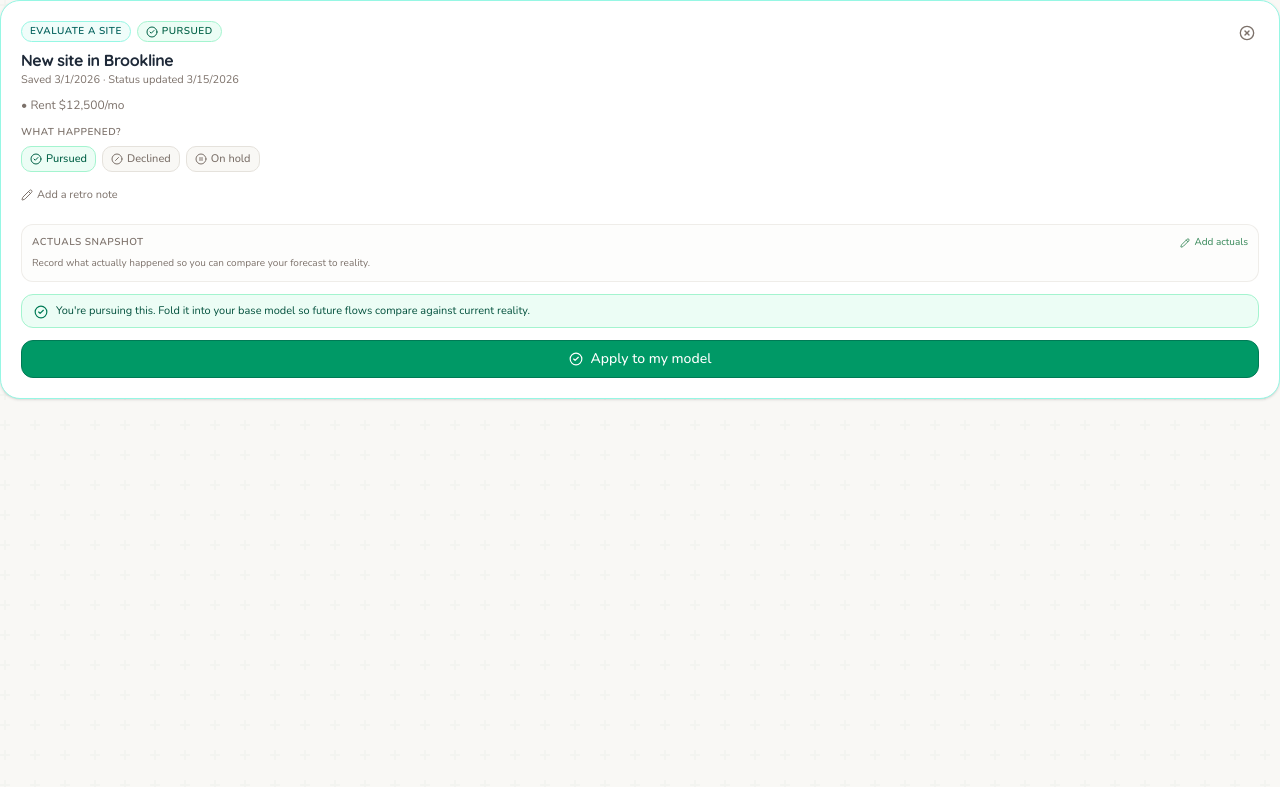
Test: CustomScenarioCard — upload-removed inline notice (Task #288) › clears the 'Suggested' pill on previously book-sourced fields after removal
Click the button with test id "custom-scenario-actuals-edit-0".
click(1214, 242)  # box left=1180, top=235, right=1248, bottom=250
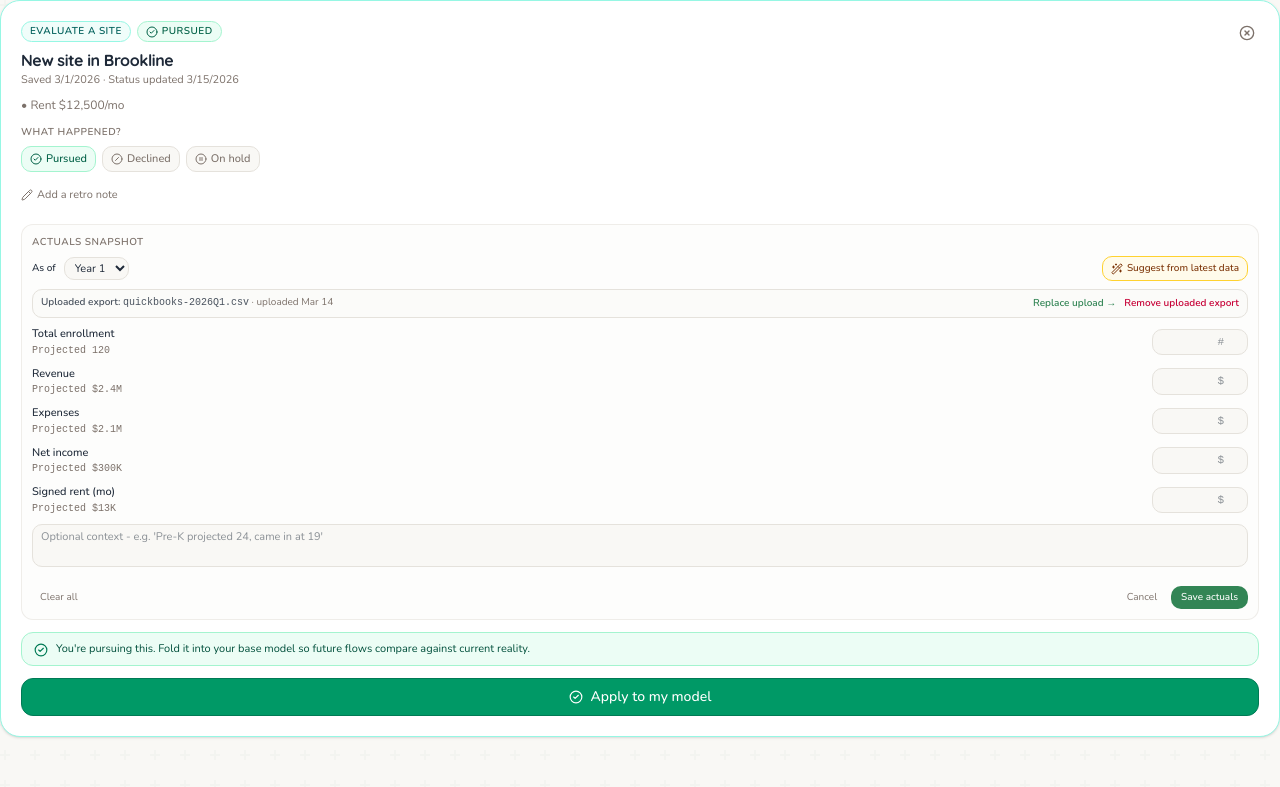
Click the button with test id "custom-scenario-actuals-suggest-0".
click(1175, 268)  # box left=1102, top=256, right=1248, bottom=281
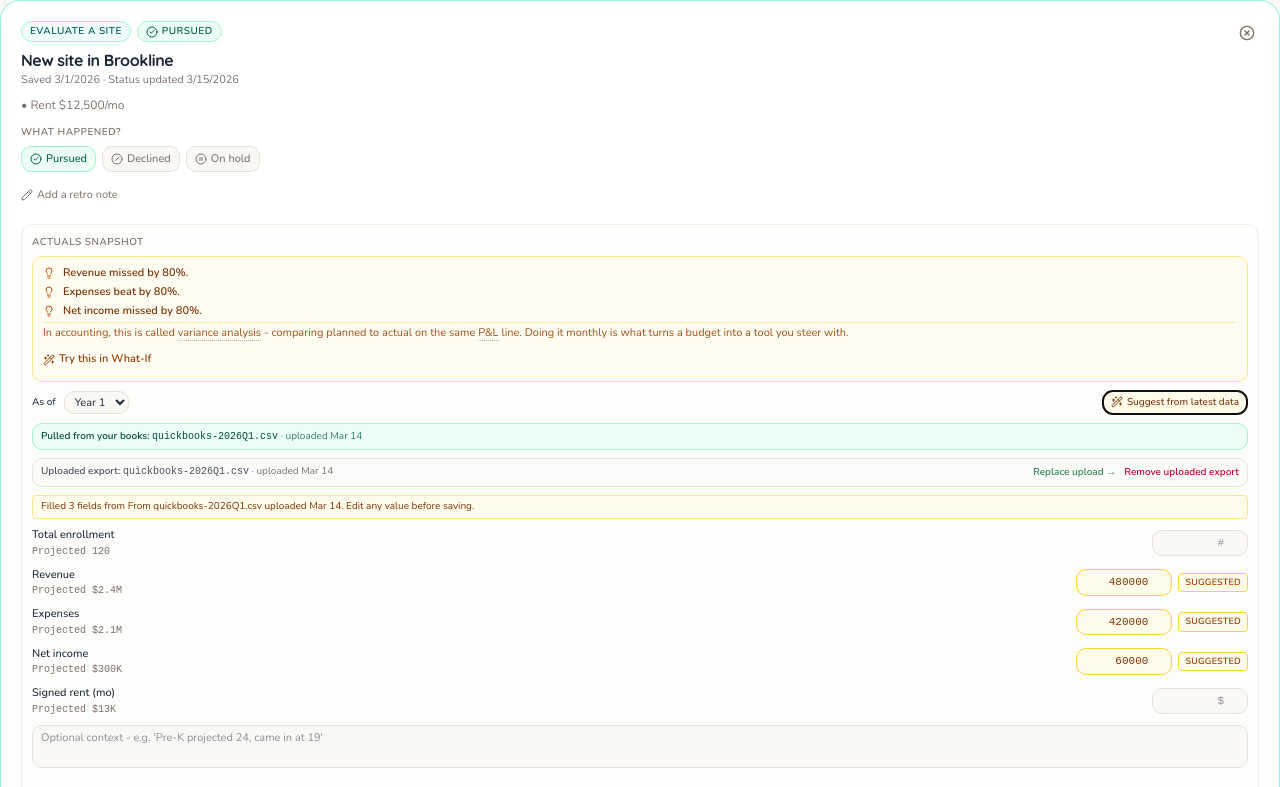
Expected: the text with test id "custom-scenario-actuals-revenue-0-suggested" is shown, left=1178, top=572, right=1248, bottom=592
Expected: the text with test id "custom-scenario-actuals-expense-0-suggested" is shown, left=1178, top=612, right=1248, bottom=632
Expected: the text with test id "custom-scenario-actuals-netincome-0-suggested" is shown, left=1178, top=652, right=1248, bottom=671
